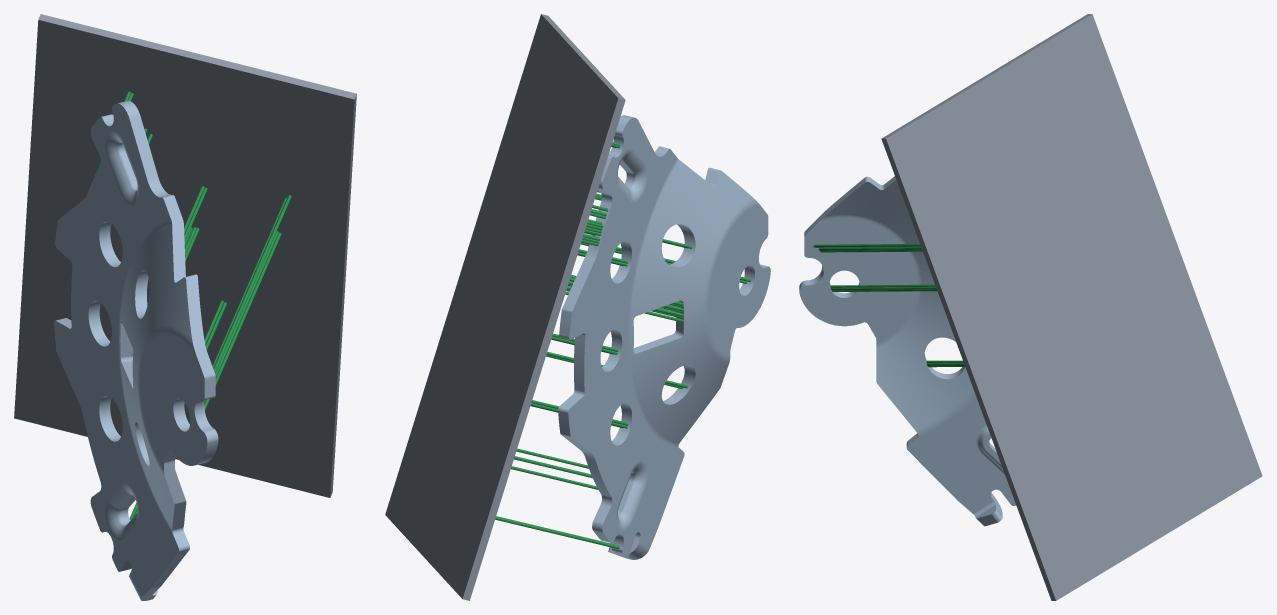
Rendered from part_with_simplified_supports_and_platform.obj.
The picture shows the model from 3 angles, left to right: view 1: azimuth 30°, elevation 25°; view 2: azimuth 150°, elevation 25°; view 3: azimuth 270°, elevation 25°; orthographic projection. The views are drawn at different scales.
Visible parts, largest first — view 1: BuildPlate, Part, SimplifiedSupportColumns; view 2: BuildPlate, Part, SimplifiedSupportColumns; view 3: BuildPlate, Part, SimplifiedSupportColumns.
Part boxes in pixels (box(x1,y1,x2,y2)): BuildPlate: box(14, 14, 356, 497); Part: box(54, 100, 218, 600); SimplifiedSupportColumns: box(90, 91, 291, 520); BuildPlate: box(385, 14, 625, 600); Part: box(558, 115, 770, 559); SimplifiedSupportColumns: box(495, 142, 751, 549); BuildPlate: box(881, 14, 1262, 600); Part: box(799, 176, 1015, 526); SimplifiedSupportColumns: box(813, 244, 964, 367).
Size of the model in its own units: 75.07 by 143 by 123.
